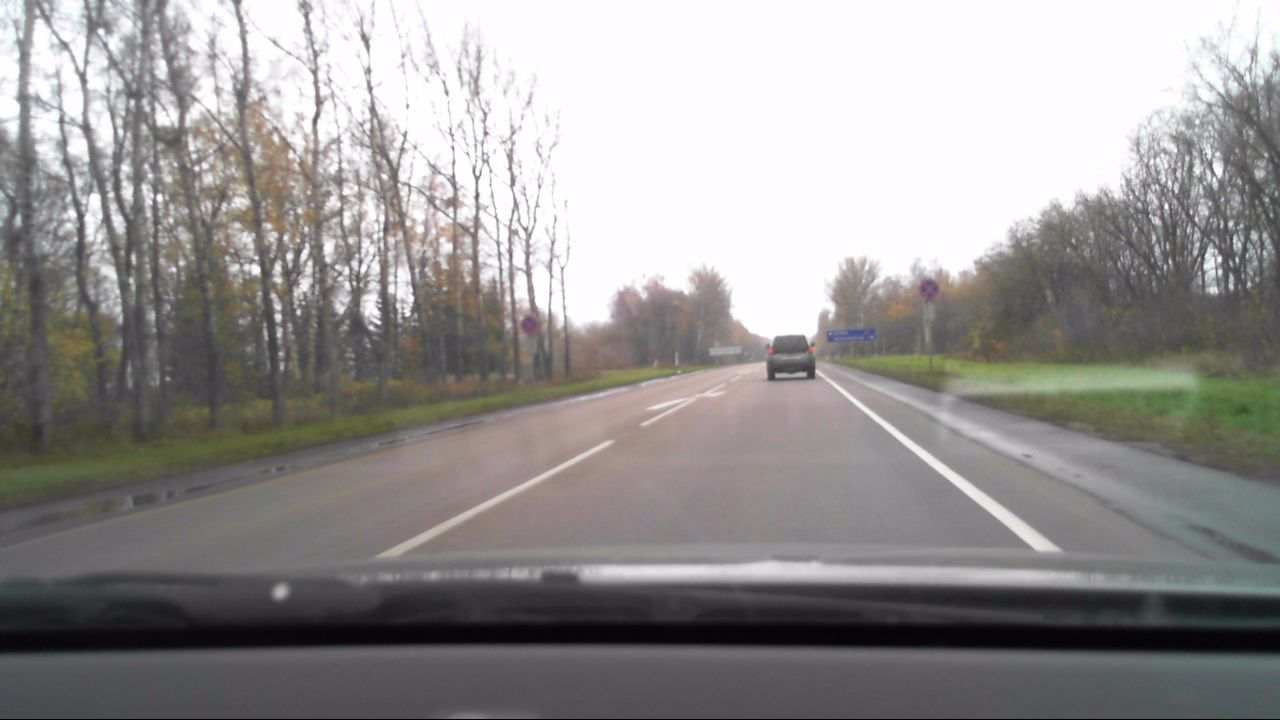No Parking: (516, 313, 540, 337)
